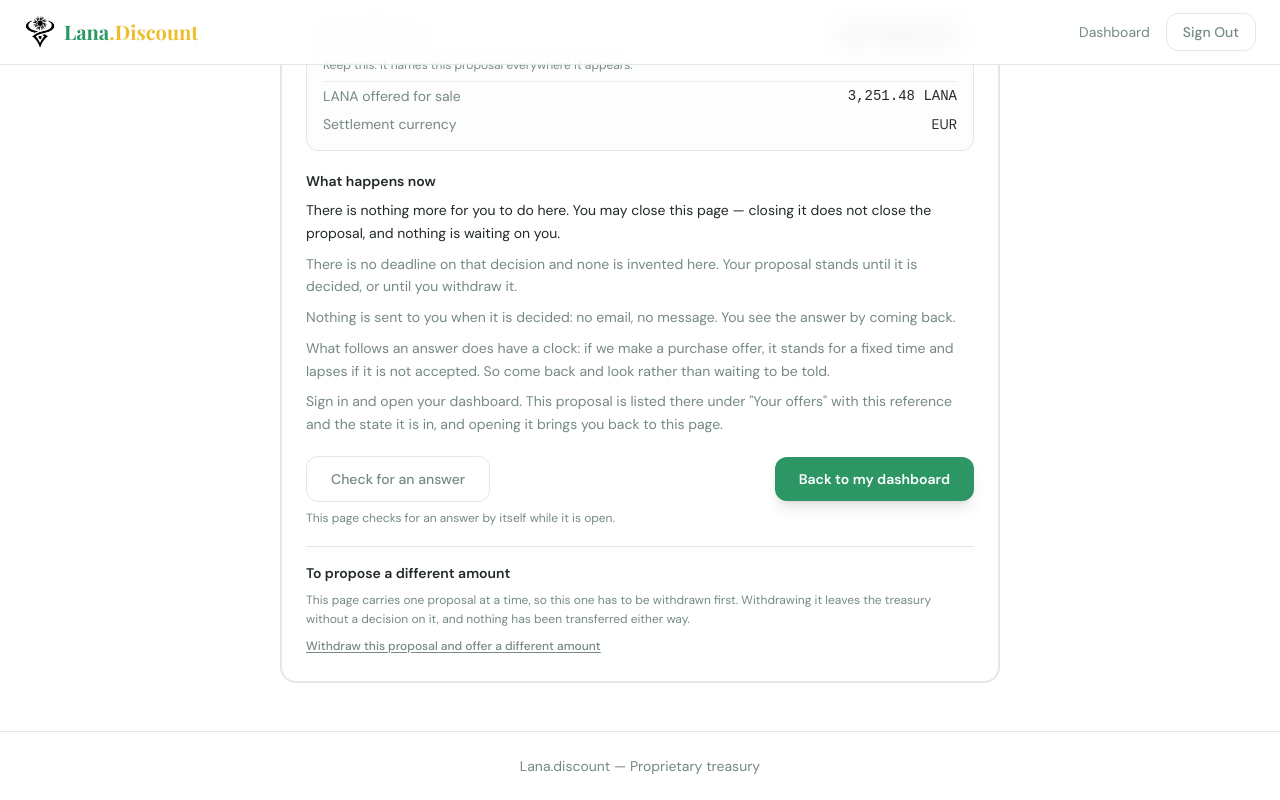
it: withdrawing is no longer what a hopeful thumb lands on › asks first, and names the reference it is about to close
(page scrolled)
Click the button "Withdraw this proposal and offer a different amount". click: (453, 646)
box: [306, 638, 601, 654]
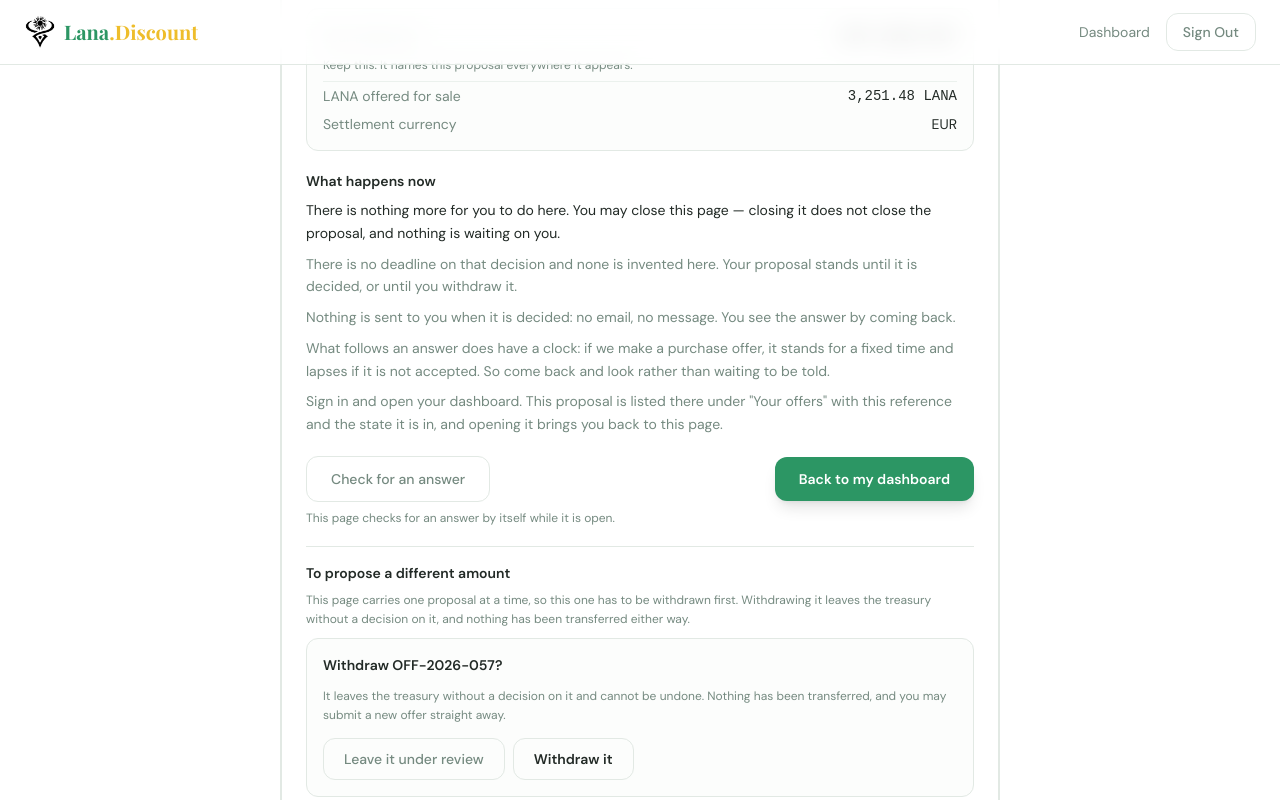
Result: the element with test id "withdraw-confirm" shows "OFF-2026-057" at [323, 656, 502, 674]
